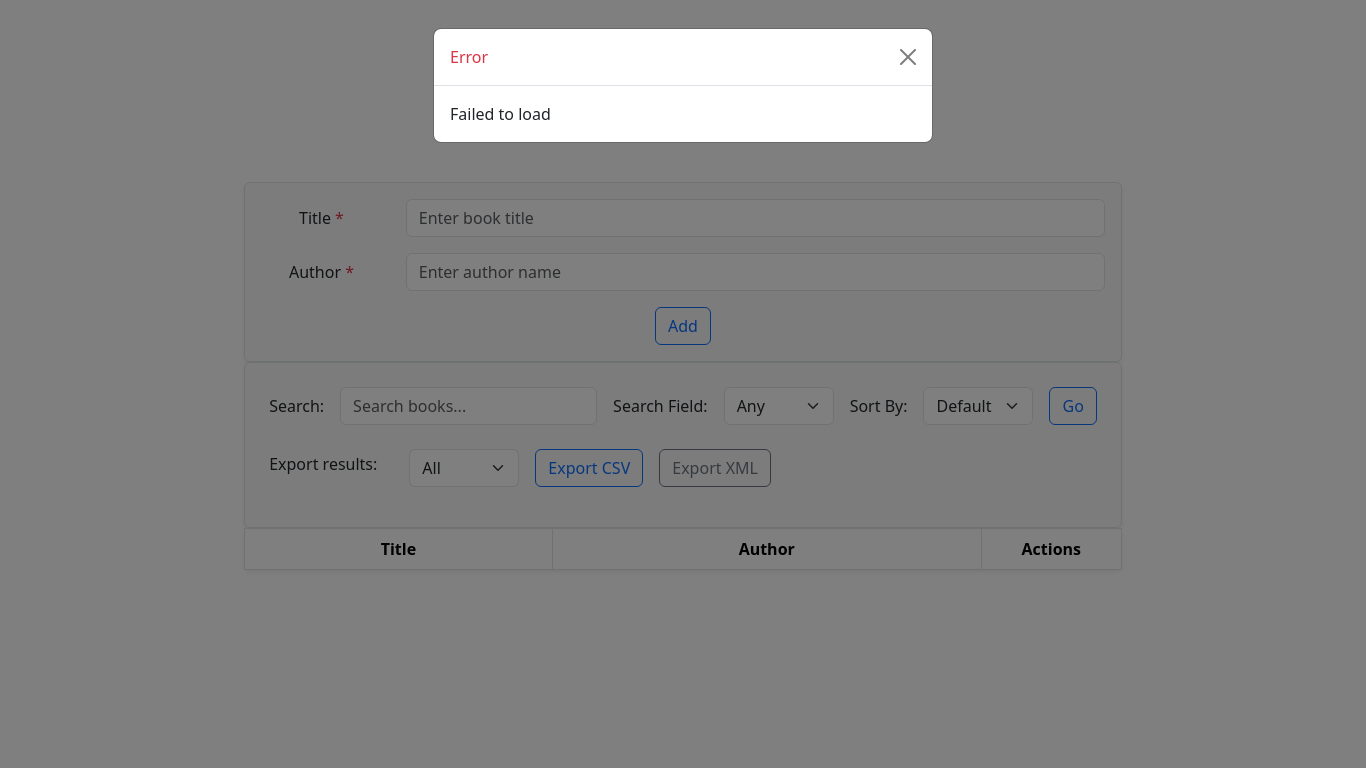
Test: App › displays error modal on fetchBooks failure
Expected: the text "Failed to load" is shown, [450, 103, 551, 125]
Expected: the text "Error" is shown, [450, 45, 488, 69]
What coordinates should you click on to do the following:
click the button named "close"
I would click on:
 (908, 57)
Its box is [892, 41, 924, 73].
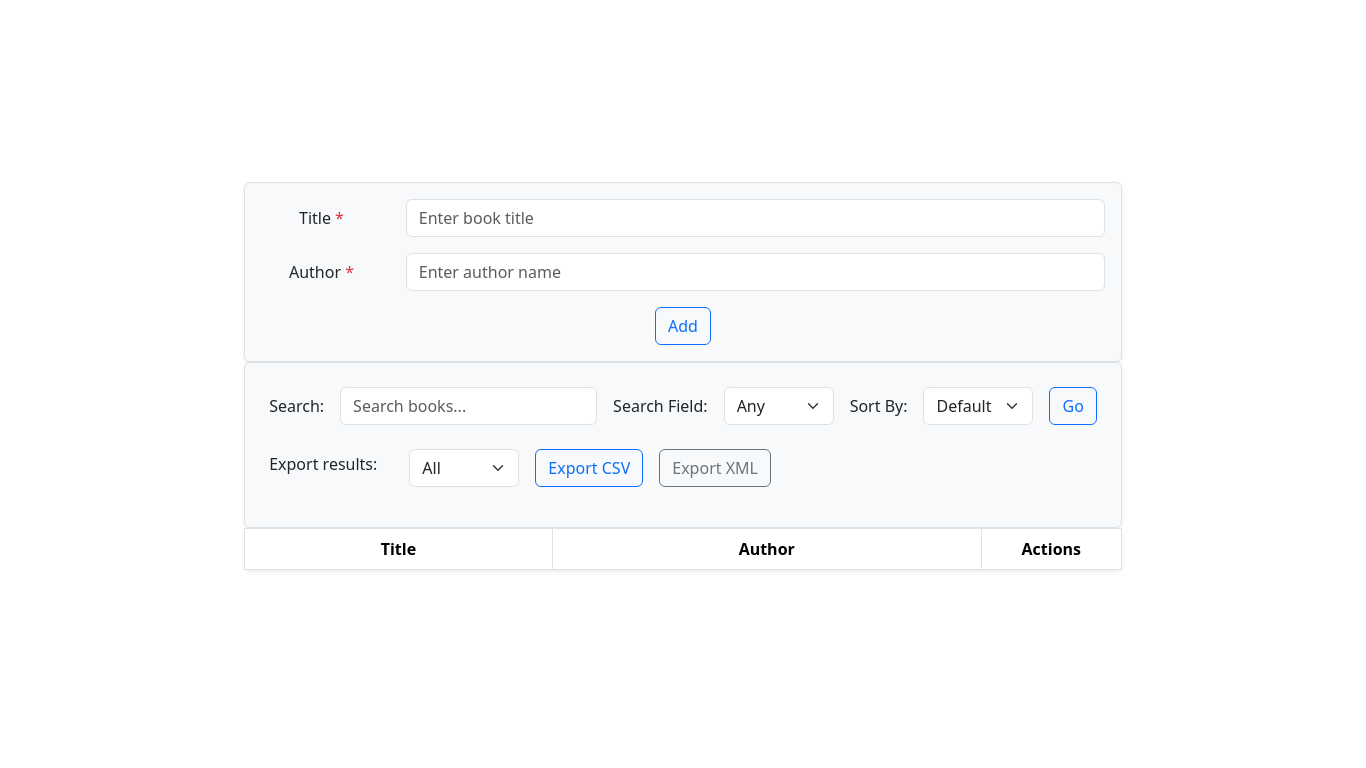
Result: the text "Error" is gone
